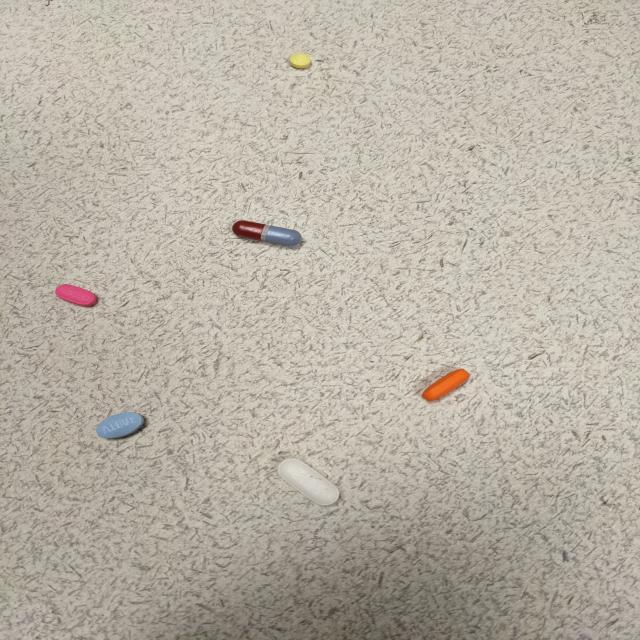non-organic waste: (277, 457, 340, 507), (232, 220, 302, 247), (421, 368, 472, 402), (96, 410, 146, 440), (55, 284, 99, 308), (288, 52, 312, 69)
